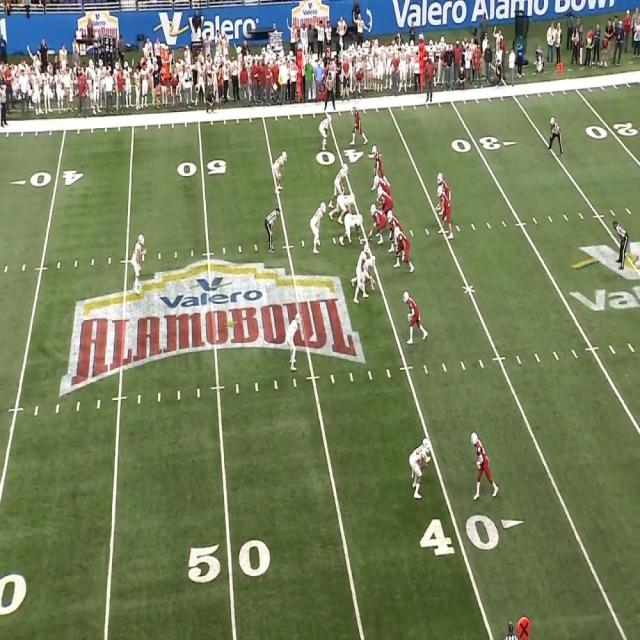center: (368, 204, 385, 243)
db: (407, 435, 432, 494), (131, 233, 148, 297), (287, 312, 301, 372), (320, 116, 331, 146)
lb: (308, 202, 326, 254), (357, 242, 369, 300), (273, 151, 288, 192), (330, 162, 347, 192)
qb: (438, 188, 455, 240)
